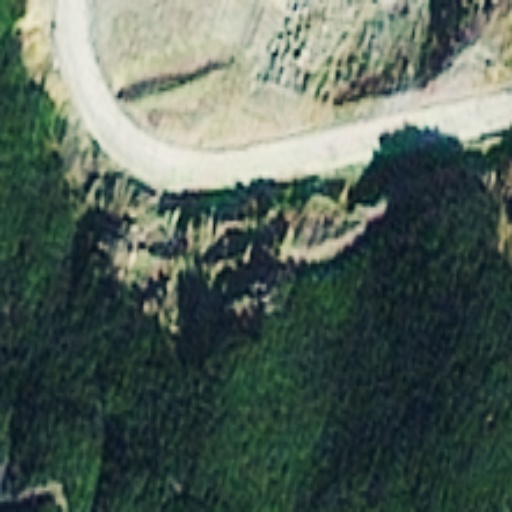landslide: (104, 198, 385, 304)
